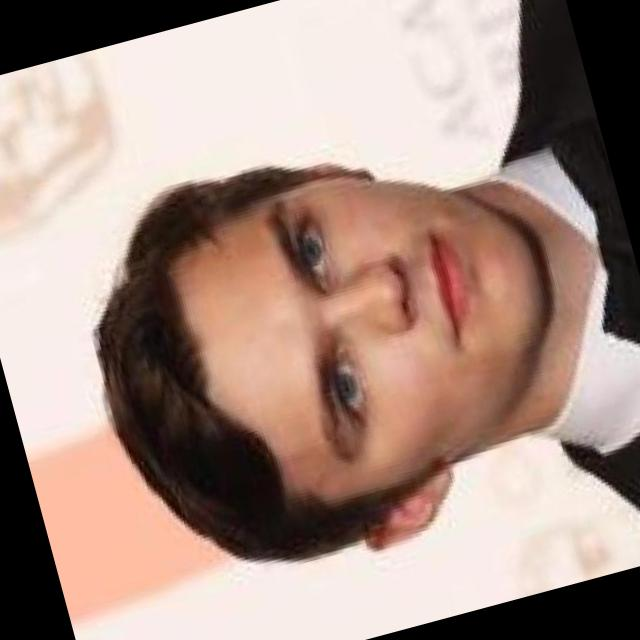bareface: (62, 92, 582, 577)
